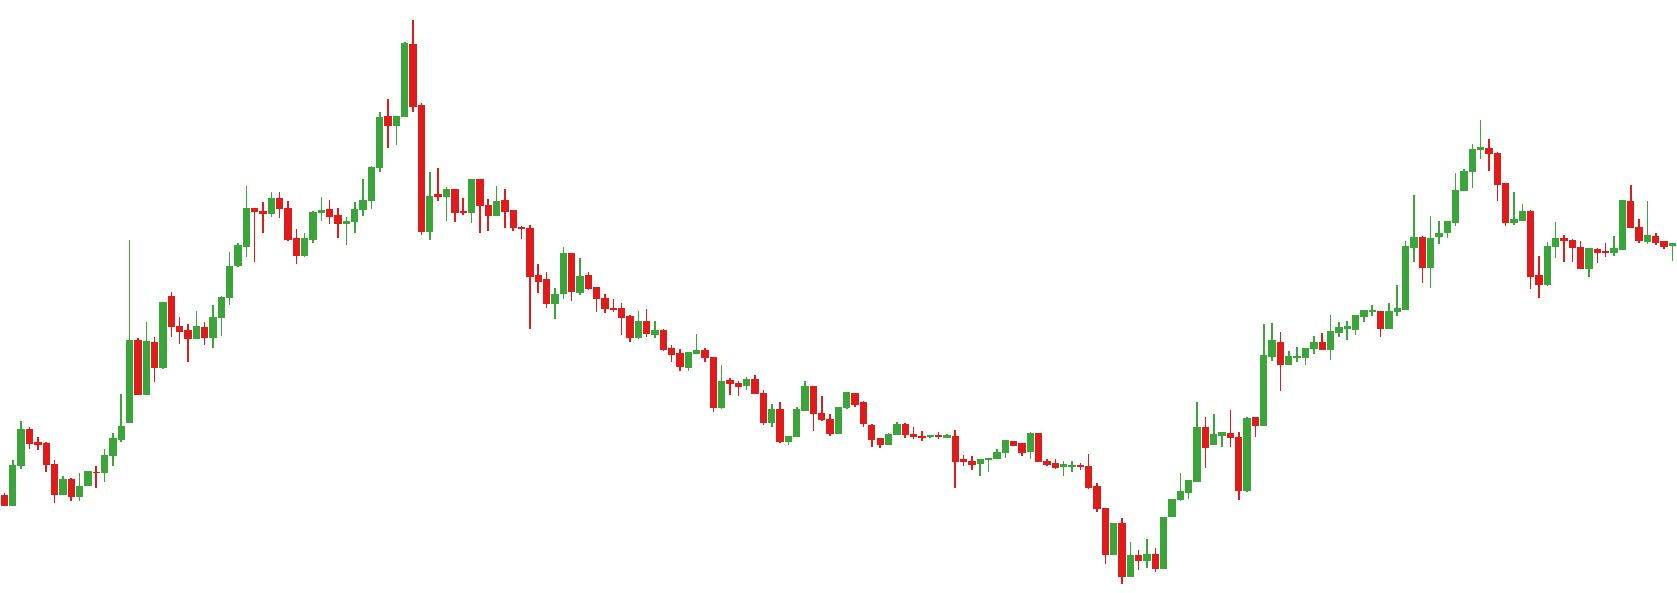buy: (251, 203, 310, 267)
